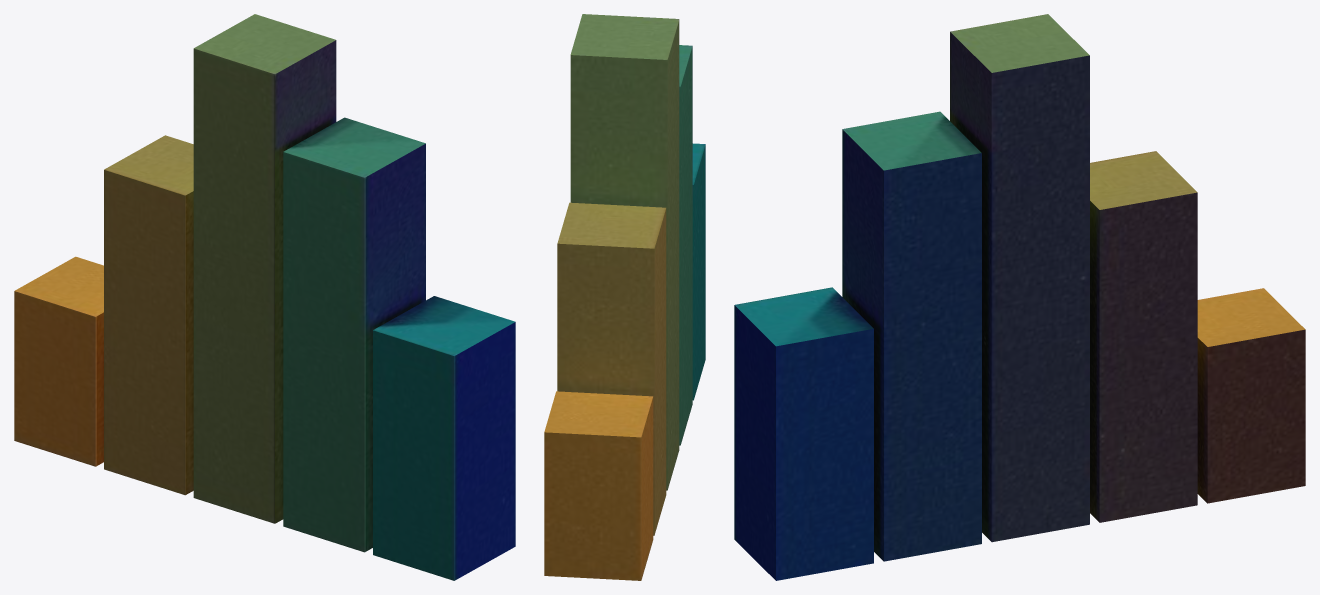
Rendered from graphic.glb.
The picture shows the model from 3 angles, left to right: view 1: azimuth 30°, elevation 25°; view 2: azimuth 150°, elevation 25°; view 3: azimuth 270°, elevation 25°; orthographic projection. The views are drawn at different scales.
Parts seen in each view (by area): view 1: graphic; view 2: graphic; view 3: graphic.
Boxes of the visible parts, x1=… form: graphic: x1=14, y1=14, x2=515, y2=580; graphic: x1=544, y1=14, x2=705, y2=580; graphic: x1=734, y1=14, x2=1305, y2=580.
Bounding box in the file's own units: 1.21 × 1.94 × 2.14.
1 material, 1 textured.
